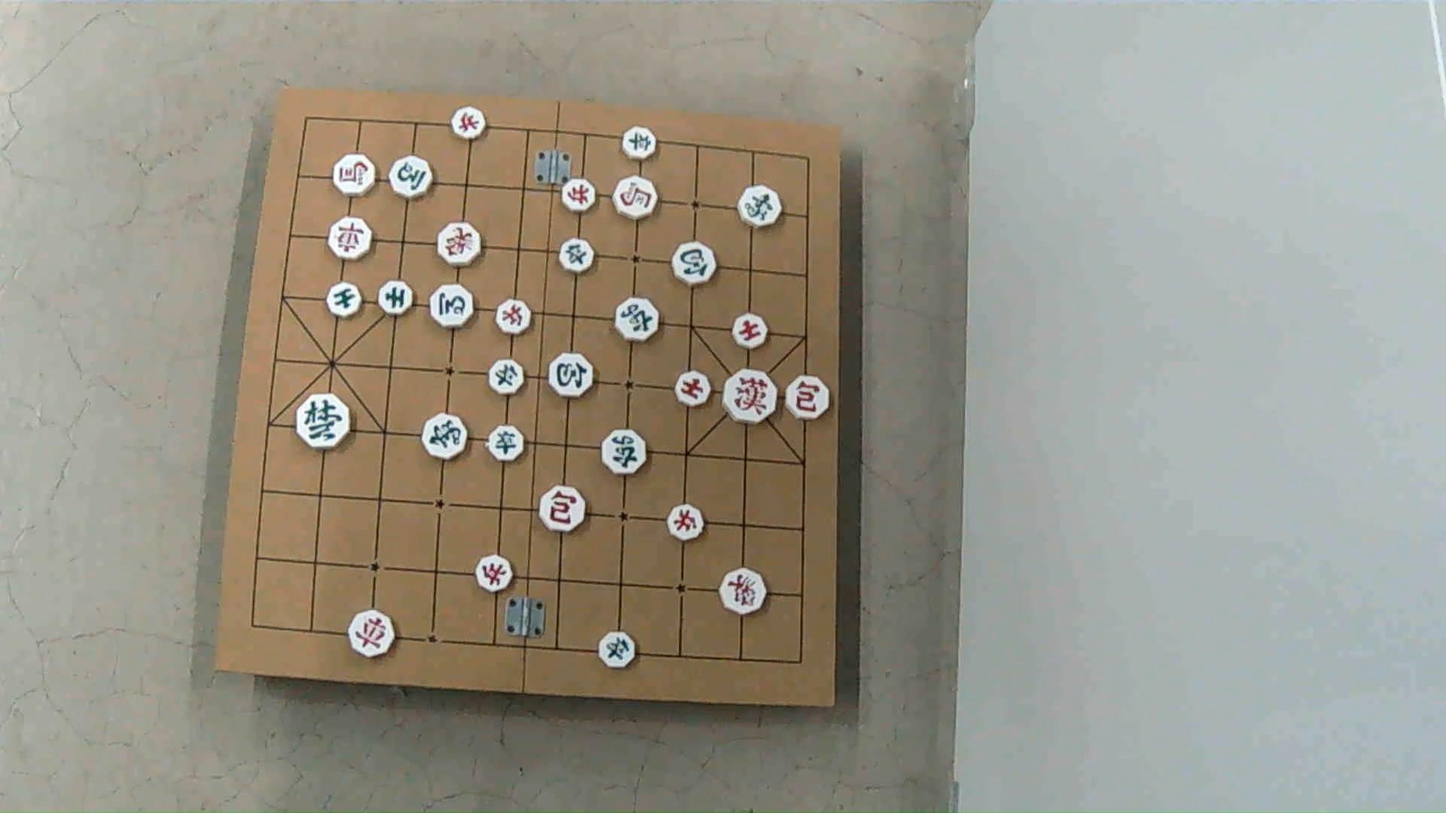cha_green: (600, 429, 646, 474), (616, 298, 660, 342)
cha_red: (352, 611, 398, 658), (328, 216, 373, 259)
jol_green: (601, 631, 638, 668), (487, 426, 523, 462), (558, 239, 593, 275), (489, 359, 525, 394), (624, 126, 659, 161)
jol_red: (477, 556, 513, 594), (670, 507, 706, 542), (451, 107, 487, 141), (495, 300, 529, 336), (560, 178, 596, 211)
ma_green: (388, 155, 432, 199), (428, 286, 471, 329)
ma_red: (612, 175, 657, 219), (334, 156, 374, 197)
po_green: (551, 352, 596, 397), (671, 244, 715, 286)
po_red: (540, 486, 587, 532), (786, 376, 829, 419)
sa_green: (378, 280, 413, 316), (327, 283, 362, 318)
sa_red: (731, 315, 766, 350), (678, 372, 713, 407)
sang_green: (425, 416, 469, 461), (739, 187, 782, 229)
sang_red: (718, 567, 766, 614), (435, 222, 479, 266)
wang_green: (297, 393, 350, 449)
wang_red: (723, 370, 778, 423)
